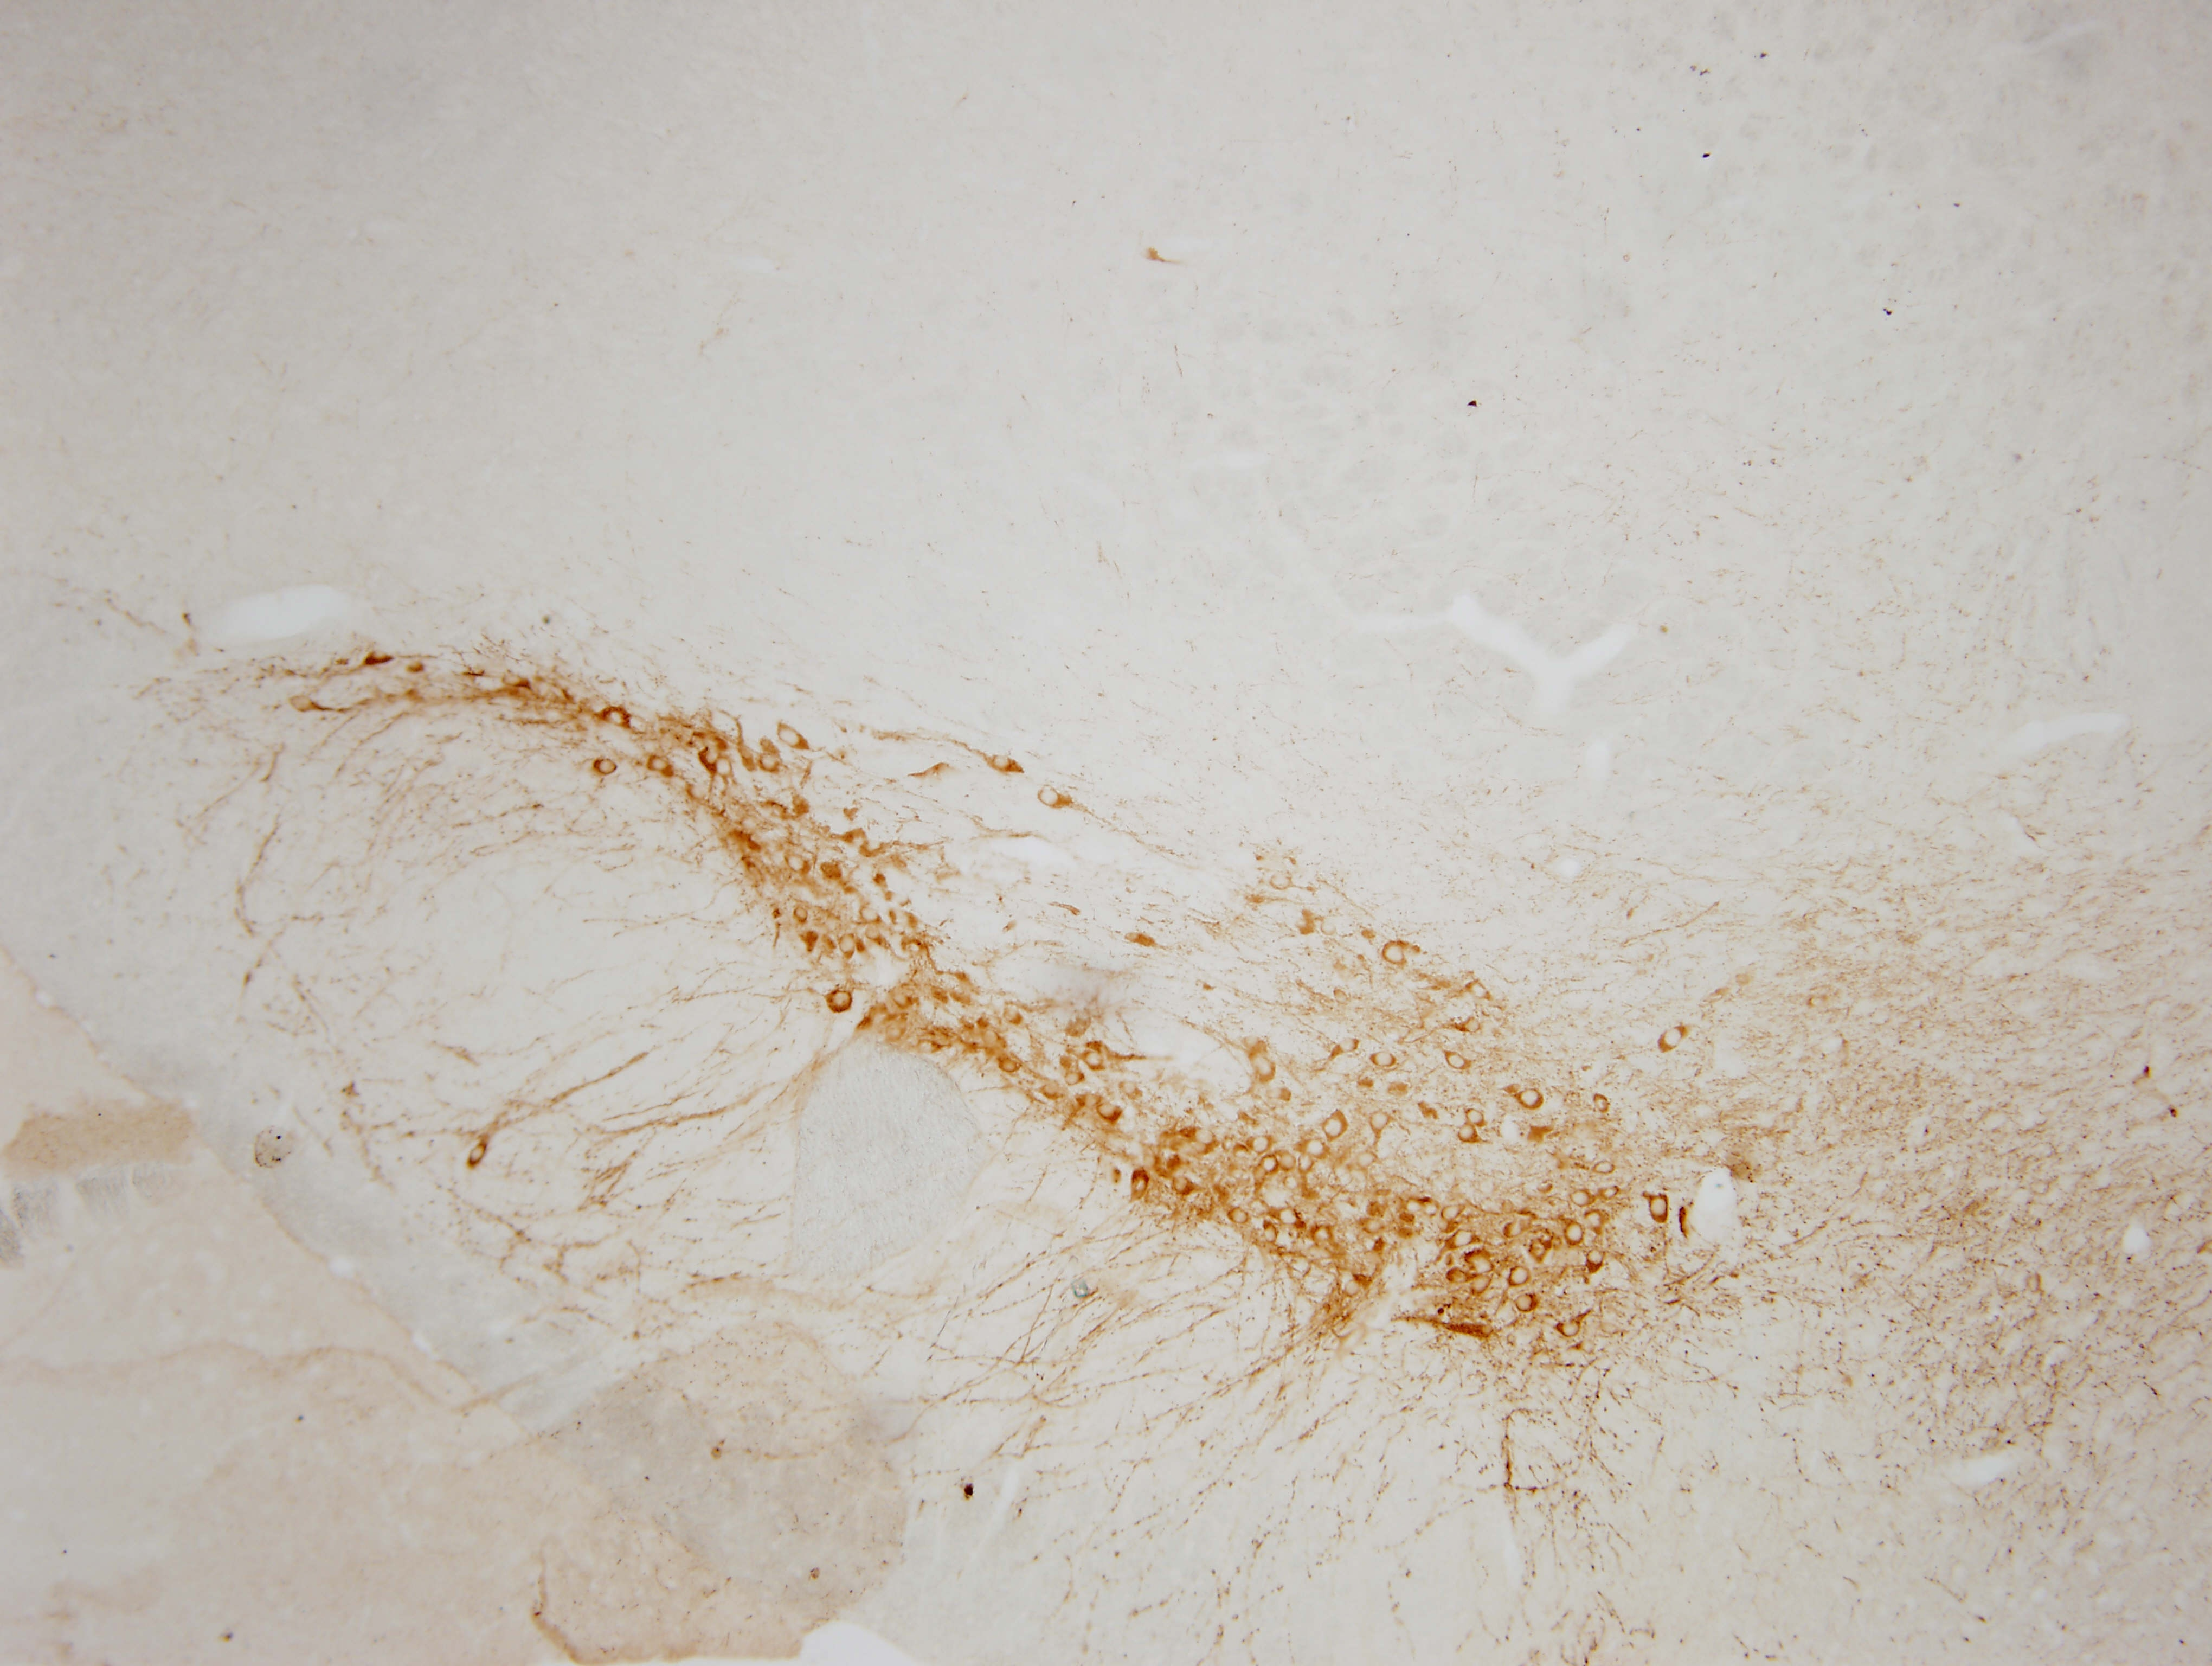neuron: (1093, 1094, 1126, 1127), (1222, 1200, 1256, 1234), (1261, 863, 1294, 896), (1437, 1199, 1471, 1232), (1465, 1246, 1499, 1279), (1640, 1195, 1673, 1229), (497, 665, 530, 698), (600, 702, 633, 733), (778, 845, 811, 877), (824, 985, 857, 1017), (831, 929, 864, 961), (984, 747, 1016, 781), (1032, 784, 1063, 817), (1126, 1169, 1159, 1200), (1189, 1122, 1222, 1153), (1369, 1045, 1401, 1078), (1448, 1223, 1479, 1256), (1469, 1270, 1500, 1304), (1516, 1081, 1548, 1115), (1560, 1218, 1591, 1251), (1656, 1022, 1687, 1055), (285, 686, 318, 718), (773, 719, 804, 751), (1378, 936, 1409, 968), (364, 644, 395, 676), (593, 754, 619, 781), (643, 751, 670, 777), (712, 754, 738, 781), (789, 903, 815, 929), (857, 901, 883, 928), (888, 987, 915, 1013), (1037, 1080, 1063, 1106), (1084, 1048, 1110, 1074), (1168, 1172, 1194, 1199), (1247, 1132, 1273, 1159), (1259, 1223, 1285, 1249), (1275, 1148, 1301, 1174), (1278, 1174, 1304, 1200), (1294, 1152, 1320, 1178), (1303, 1136, 1329, 1162), (1310, 1220, 1336, 1246), (1336, 1034, 1362, 1061), (1339, 1278, 1366, 1304), (1355, 1146, 1381, 1172), (1360, 1216, 1387, 1242), (1367, 1111, 1394, 1138), (1395, 1192, 1422, 1218), (1418, 1193, 1444, 1220), (1446, 1048, 1472, 1074), (1460, 1015, 1486, 1041), (1462, 1102, 1488, 1129), (1464, 976, 1490, 1003), (1504, 1215, 1530, 1241), (1507, 1265, 1534, 1292), (1513, 1292, 1539, 1318), (1558, 1316, 1584, 1342), (1584, 1248, 1610, 1274), (1589, 1092, 1616, 1118), (1591, 1153, 1617, 1179), (902, 933, 927, 959), (915, 1036, 941, 1061), (997, 1055, 1021, 1081), (1061, 1067, 1088, 1092), (1254, 1152, 1280, 1176), (1275, 1206, 1299, 1232), (1322, 1115, 1346, 1141), (1455, 1122, 1479, 1148), (1570, 1185, 1595, 1211), (1803, 991, 1827, 1017), (757, 751, 782, 775)
